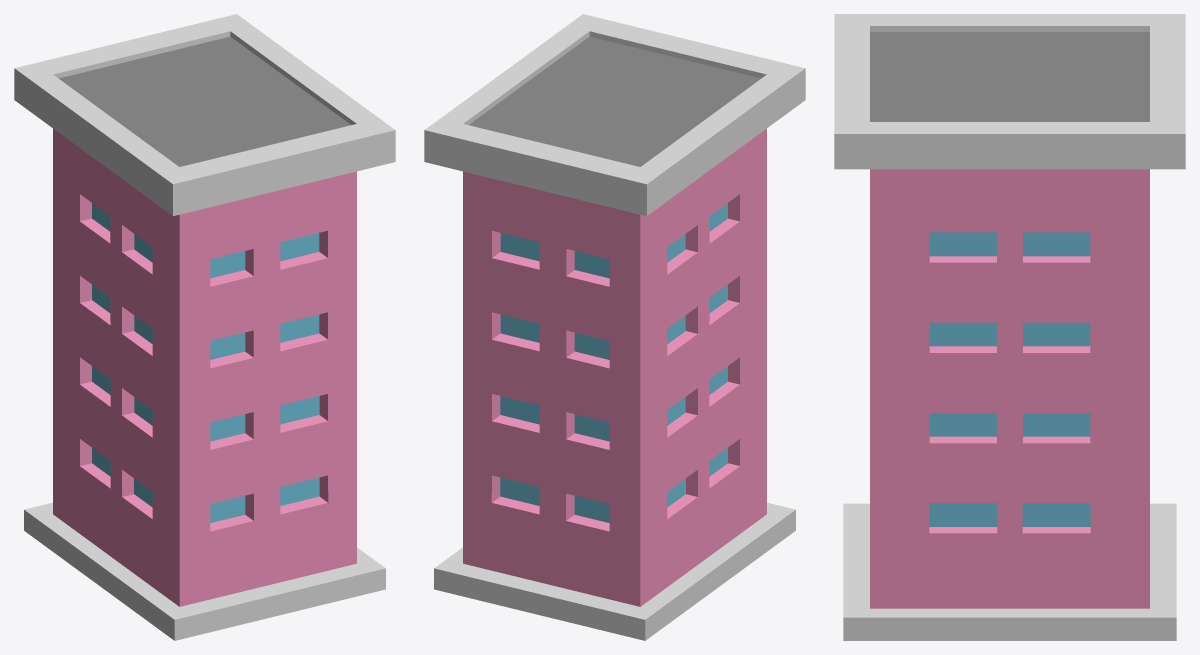
3 views of the same model, side by side, from view 1: azimuth 30°, elevation 25°; view 2: azimuth 150°, elevation 25°; view 3: azimuth 270°, elevation 25° (orthographic). The views are drawn at different scales.
Visible parts, largest first — view 1: Cube; view 2: Cube; view 3: Cube.
Boxes of the visible parts, x1,y1,x2,y2 form: Cube: (14,14,395,640); Cube: (424,14,805,640); Cube: (834,14,1185,640).
Bounding box in the file's own units: 245 × 485 × 303.
